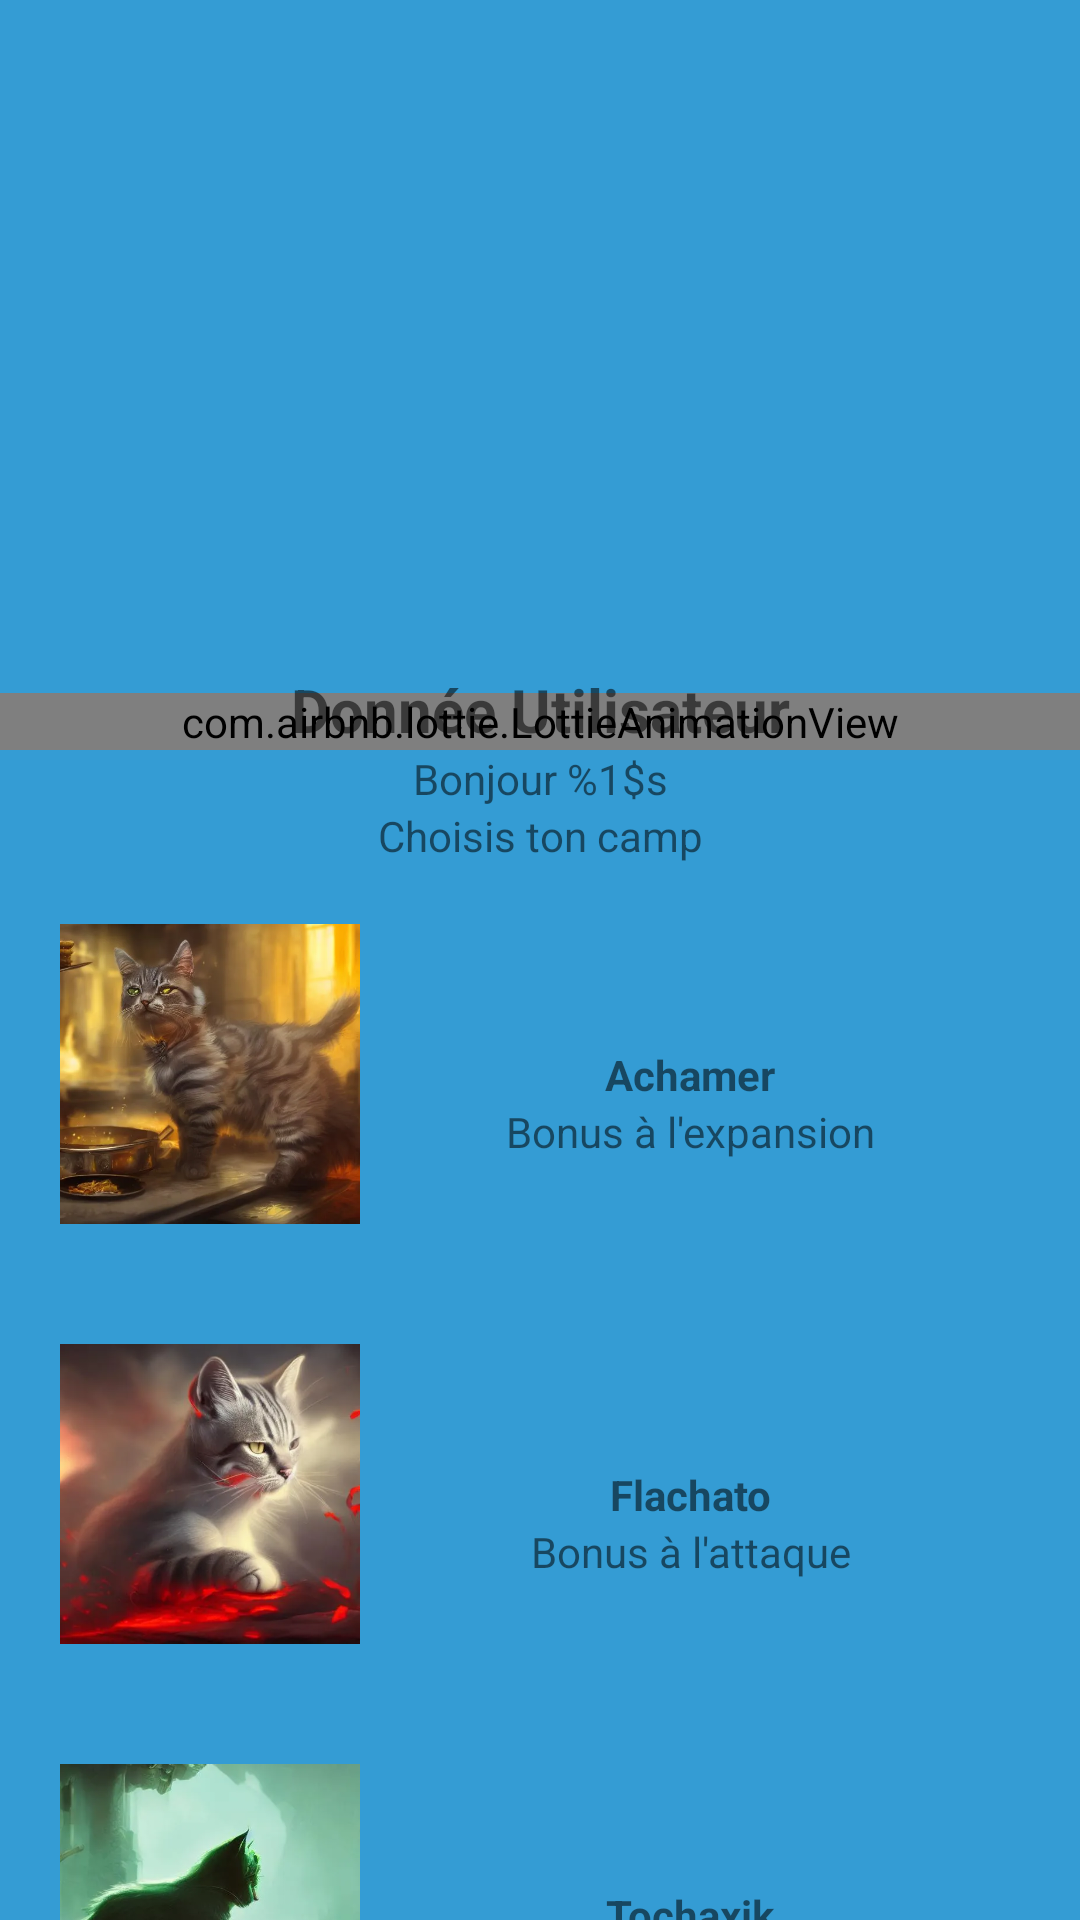

Locate icon controls on the screen. Image size 1080 x 1920, boxes as (x1, y1, x2, y2).
clan jaune: (60, 924, 360, 1224)
clan rouge: (60, 1344, 360, 1644)
